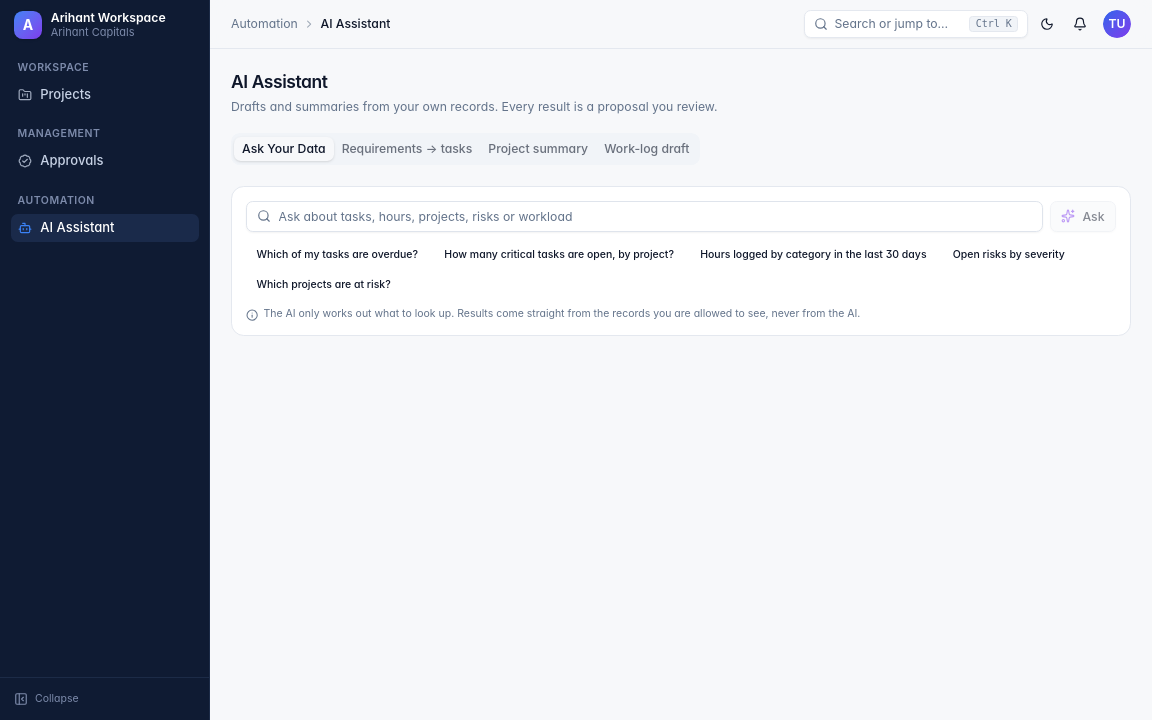
Test: Ask Your Data › shows what was looked up, the answer, notes, and a chart with a table view
Step 1. Type "Critical tasks by project" into the field named "Your question" → [644, 216], box [246,200,1043,232]
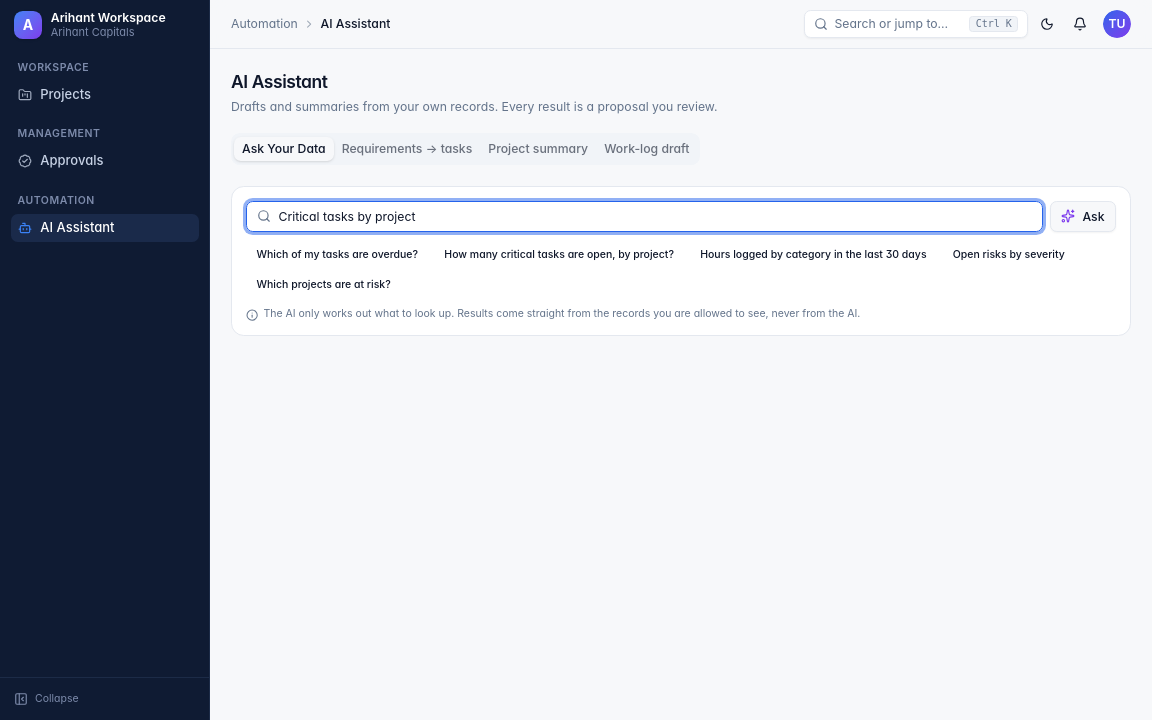
Step 2. Click the button "Ask" → [1083, 216], box [1050,200,1116,232]
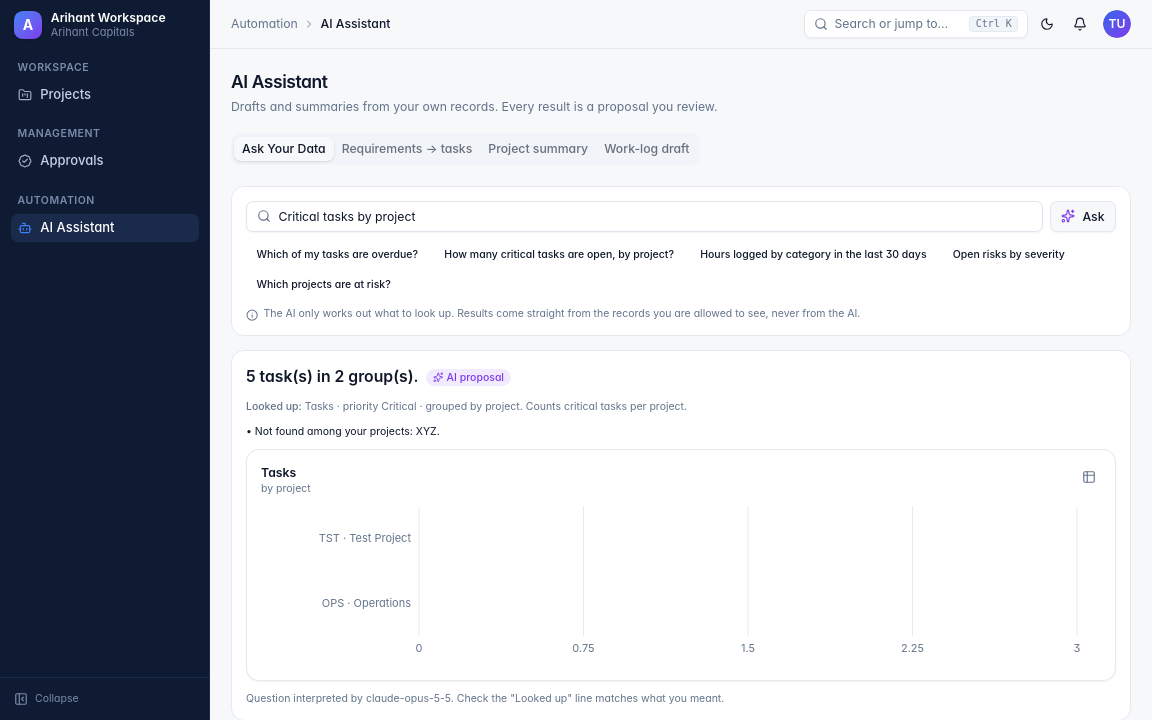
expect the text "5 task(s) in 2 group(s)." is shown: met, box [246,365,419,390]
expect the text "grouped by project" is shown: met, box [305,400,687,413]
expect the list item "• Not found among your projects: XYZ." is shown: met, box [246,425,440,438]
Step 3. Click the button named "as a table" → [1089, 477], box [1076,464,1101,489]
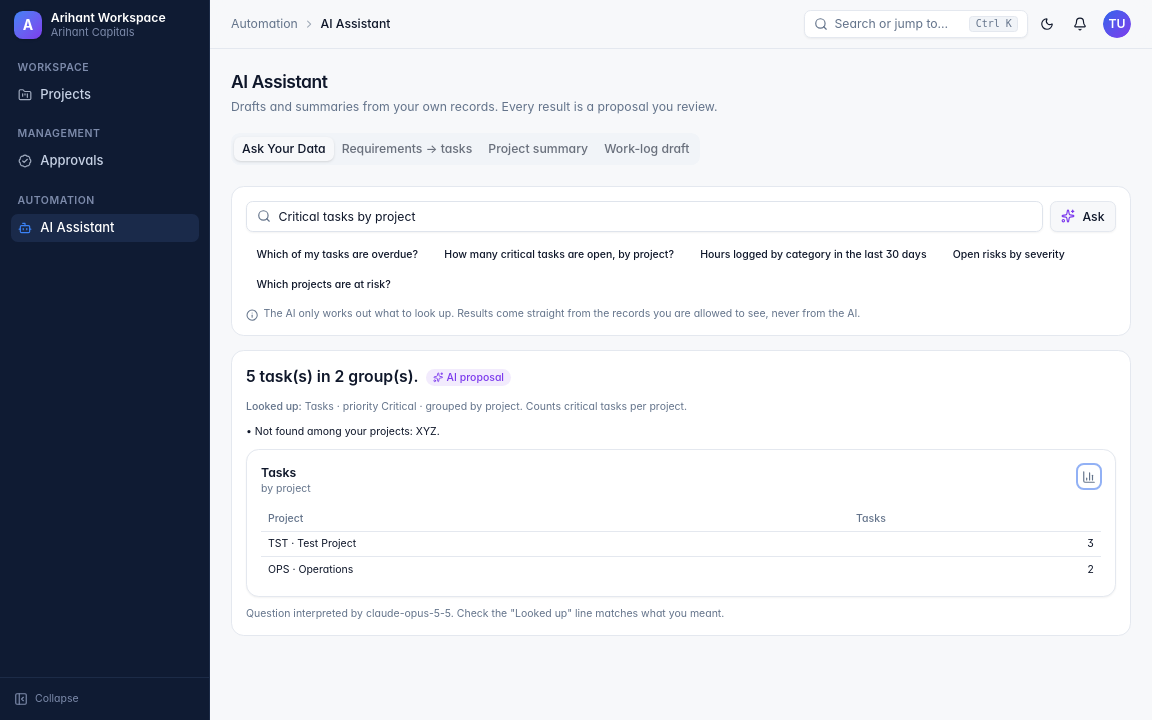
expect the row "TST · Test Project 3" is shown: met, box [261,531,1101,557]
